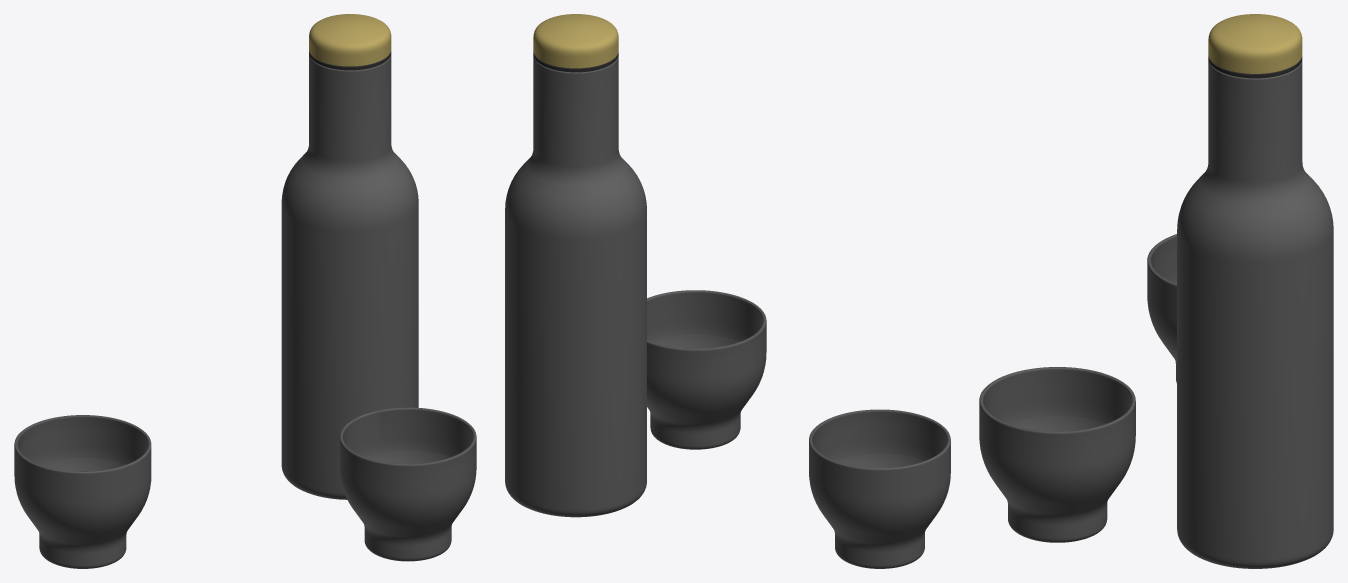
The model's file is bottle_carafeset.gltf.
3 views of the same model, side by side, from view 1: azimuth 30°, elevation 25°; view 2: azimuth 150°, elevation 25°; view 3: azimuth 270°, elevation 25° (orthographic). The views are drawn at different scales.
Visible parts, largest first — view 1: Mesh (×2); view 2: Mesh (×2); view 3: Mesh (×2).
Part boxes in pixels (box(x1,y1,x2,y2)): Mesh (×2): box(14, 14, 476, 568); Mesh (×2): box(505, 14, 950, 568); Mesh (×2): box(979, 14, 1333, 568).
Bounding box in the file's own units: 0.2689 × 0.2901 × 0.1811.
Materials: 3 (3 with a texture image).
